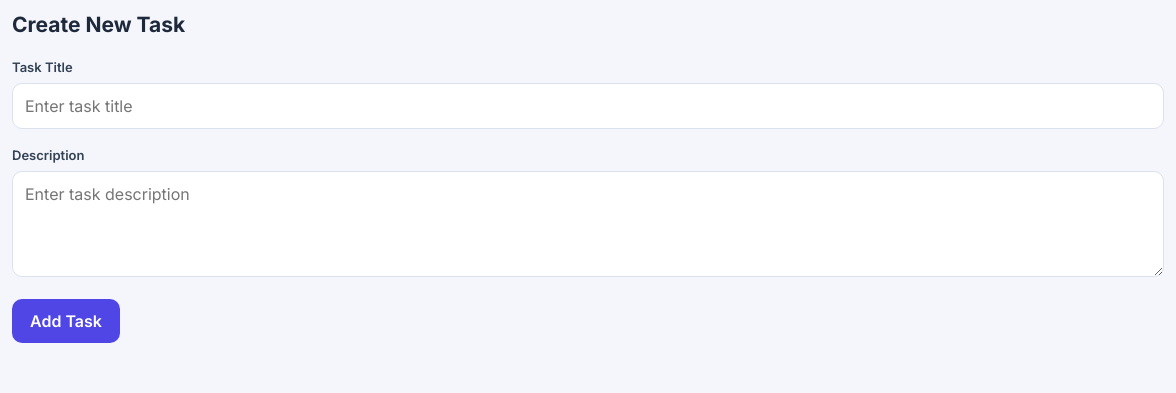
Test: TaskForm › shows validation error for empty title
The image size is (1176, 393).
Click the button "Add Task" at x=66, y=321, box [12,299,120,343]
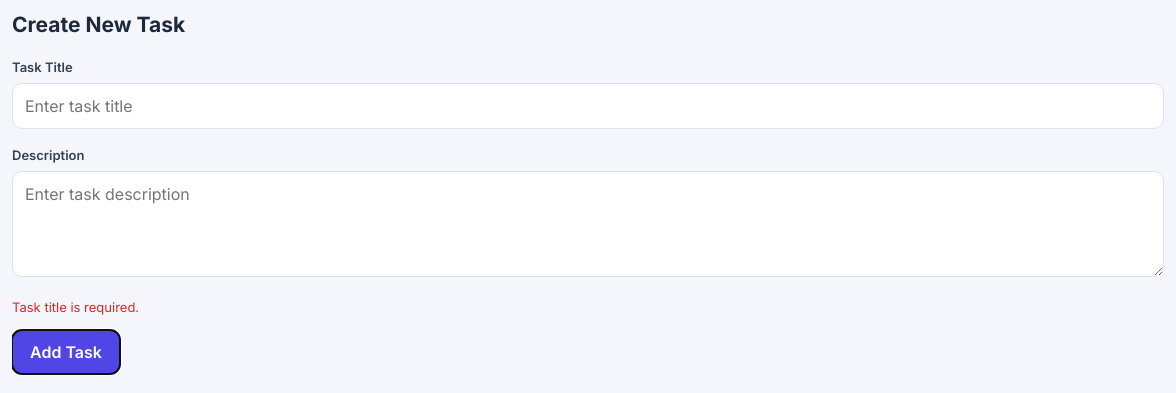
Result: the message reads "Task title is required." at [12,299,139,315]
